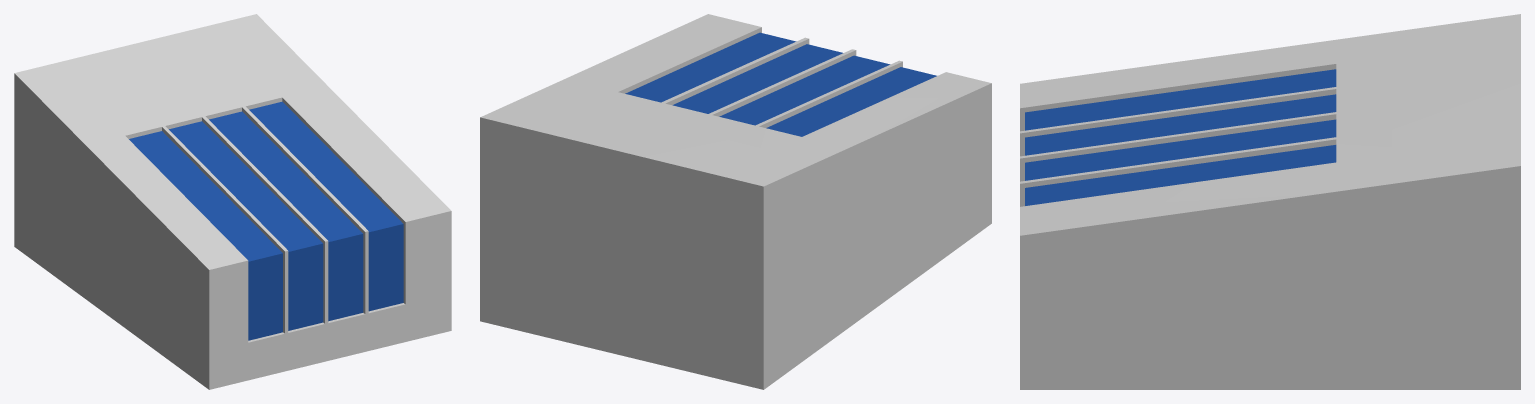
The model's file is Top Floor 4 windows Slanted.fbx.
The picture shows the model from 3 angles, left to right: view 1: azimuth 30°, elevation 25°; view 2: azimuth 150°, elevation 25°; view 3: azimuth 270°, elevation 25°; orthographic projection. The views are drawn at different scales.
Visible parts, largest first — view 1: Long Top Windows; view 2: Long Top Windows; view 3: Long Top Windows.
Part boxes in pixels (left/top/right/bottom): Long Top Windows: left=14, top=14, right=451, bottom=389; Long Top Windows: left=480, top=14, right=991, bottom=389; Long Top Windows: left=1020, top=14, right=1520, bottom=389.
Size of the model in its own units: 824 by 567 by 1148.
